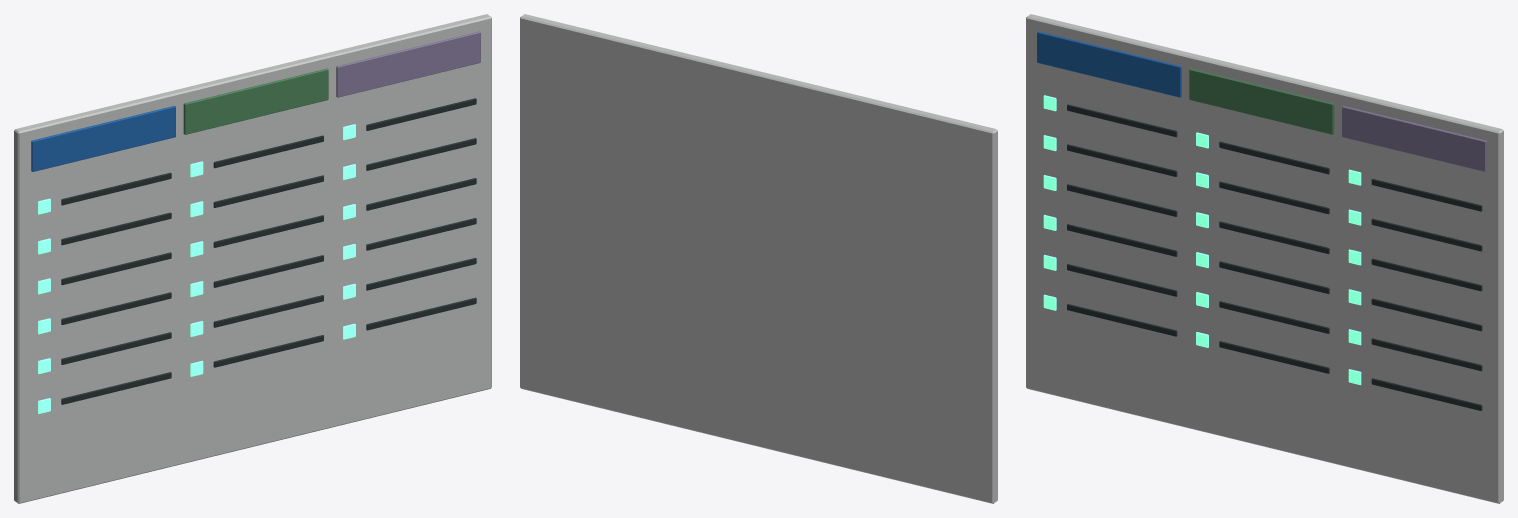
Rendered from sc-who-checklist.glb.
3 views of the same model, side by side, from view 1: azimuth 30°, elevation 25°; view 2: azimuth 150°, elevation 25°; view 3: azimuth 330°, elevation 25° (orthographic).
Parts seen in each view (by area): view 1: sc-who-checklist; view 2: sc-who-checklist; view 3: sc-who-checklist.
Boxes of the visible parts, <box> form: sc-who-checklist: <box>14,14,491,503</box>; sc-who-checklist: <box>520,14,997,503</box>; sc-who-checklist: <box>1026,14,1503,503</box>.
Size of the model in its own units: 1.12 by 0.84 by 0.026.
